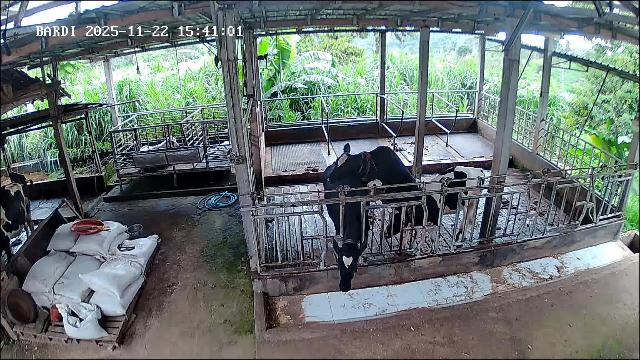mounting: (326, 143, 419, 199)
